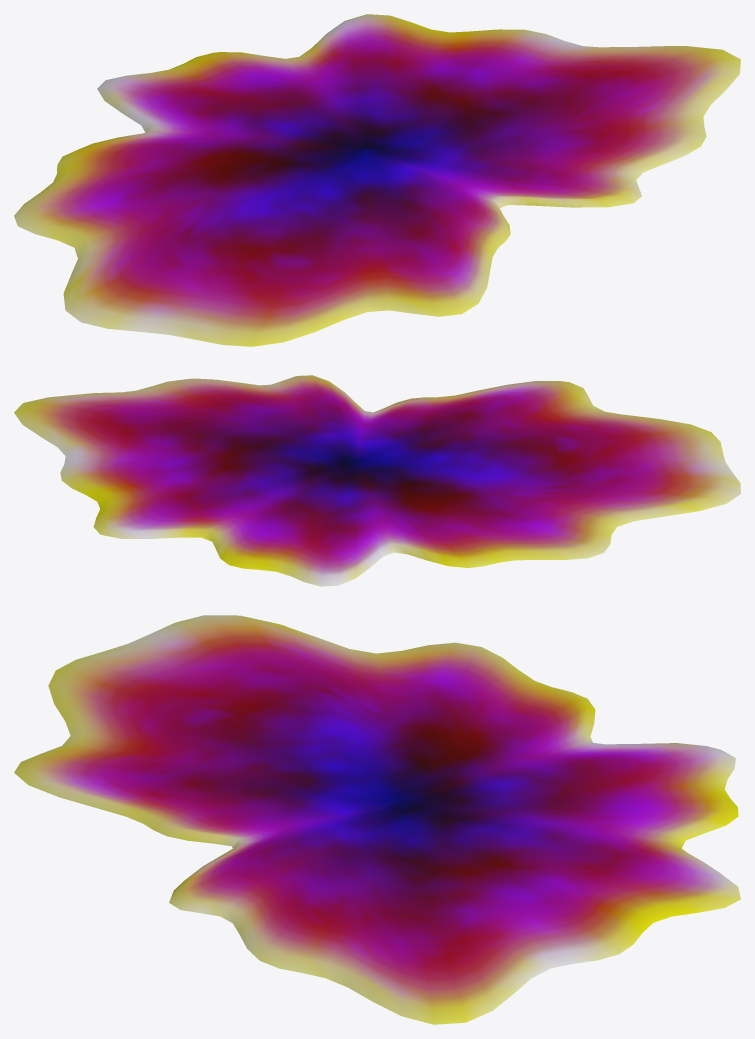
Rendered from SM_MeltPool.fbx.
The picture shows the model from 3 angles, top to bottom: view 1: azimuth 30°, elevation 25°; view 2: azimuth 150°, elevation 25°; view 3: azimuth 270°, elevation 25°; orthographic projection. The views are drawn at different scales.
Parts seen in each view (by area): view 1: SM_MeltPool; view 2: SM_MeltPool; view 3: SM_MeltPool.
Boxes of the visible parts, box(x1,y1,x2,y2) form: SM_MeltPool: box(14, 14, 740, 346); SM_MeltPool: box(14, 375, 740, 586); SM_MeltPool: box(14, 615, 740, 1024).
Bounding box in the file's own units: 14469 × 19285 × 380.
